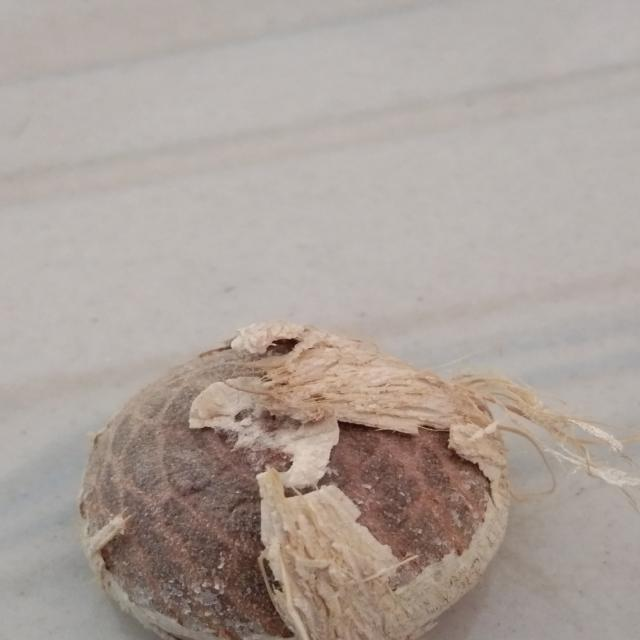phatora: (62, 318, 536, 640)
